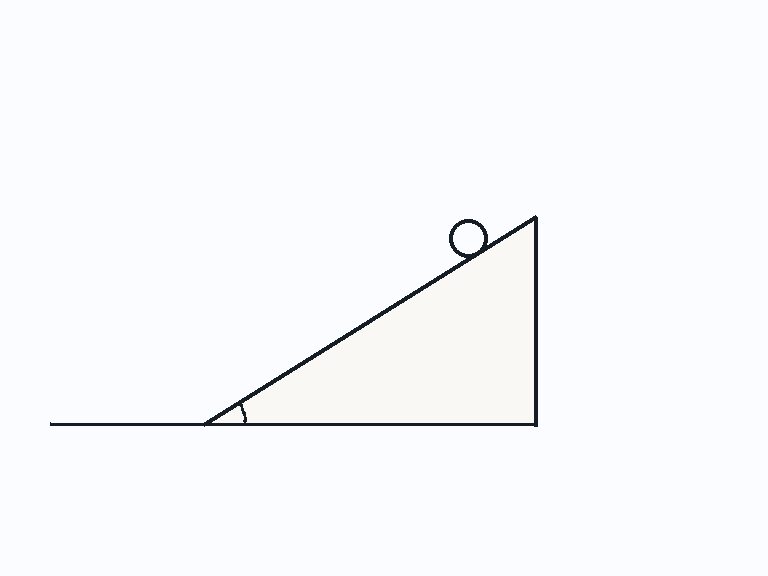ball: (447, 217, 489, 259)
ramp: (203, 216, 537, 426)
